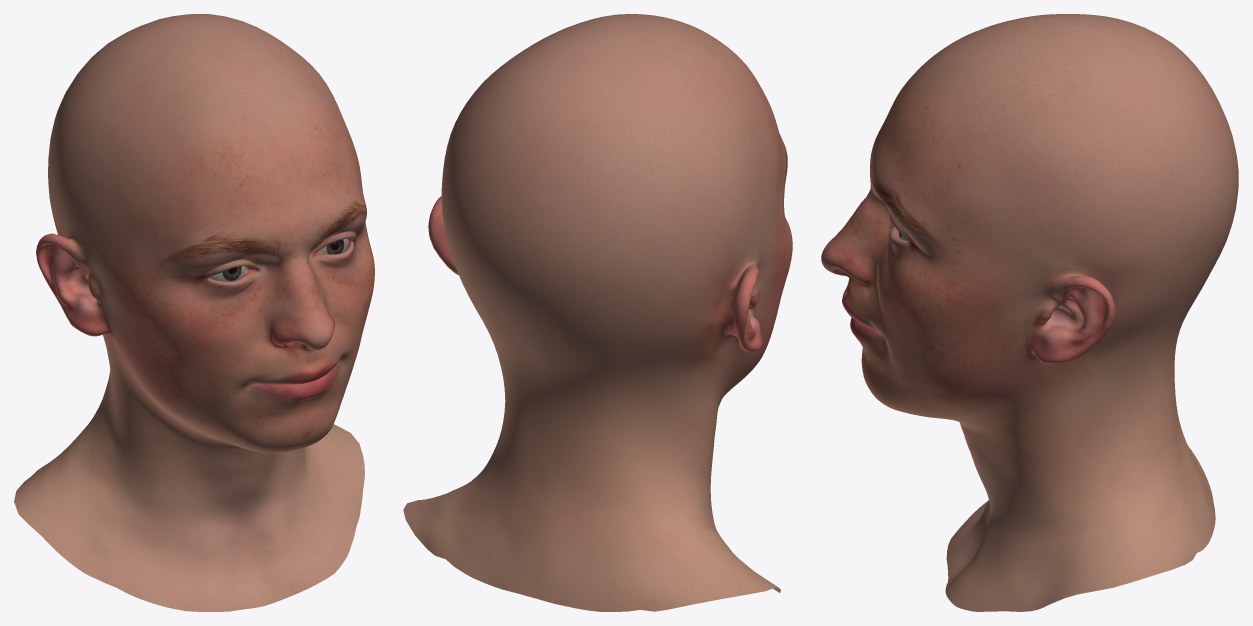
3 renders of one model, left to right at view 1: azimuth 30°, elevation 25°; view 2: azimuth 150°, elevation 25°; view 3: azimuth 270°, elevation 25°, orthographic. The views are drawn at different scales.
Visible parts, largest first — view 1: Registered head; view 2: Registered head; view 3: Registered head.
Part boxes in pixels (left/top/right/bottom): Registered head: left=14, top=14, right=374, bottom=611; Registered head: left=403, top=14, right=792, bottom=611; Registered head: left=821, top=14, right=1238, bottom=611.
Size of the model in its own units: 1.24 by 1.9 by 1.3.
3 materials, 3 textured.
